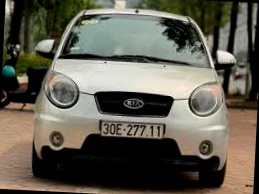Bien-so: (102, 122, 166, 138)
